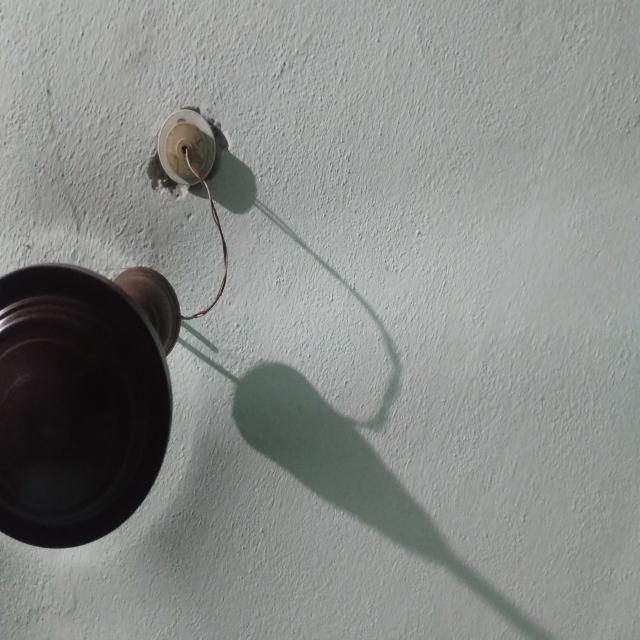fan_on: (0, 3, 392, 640)
